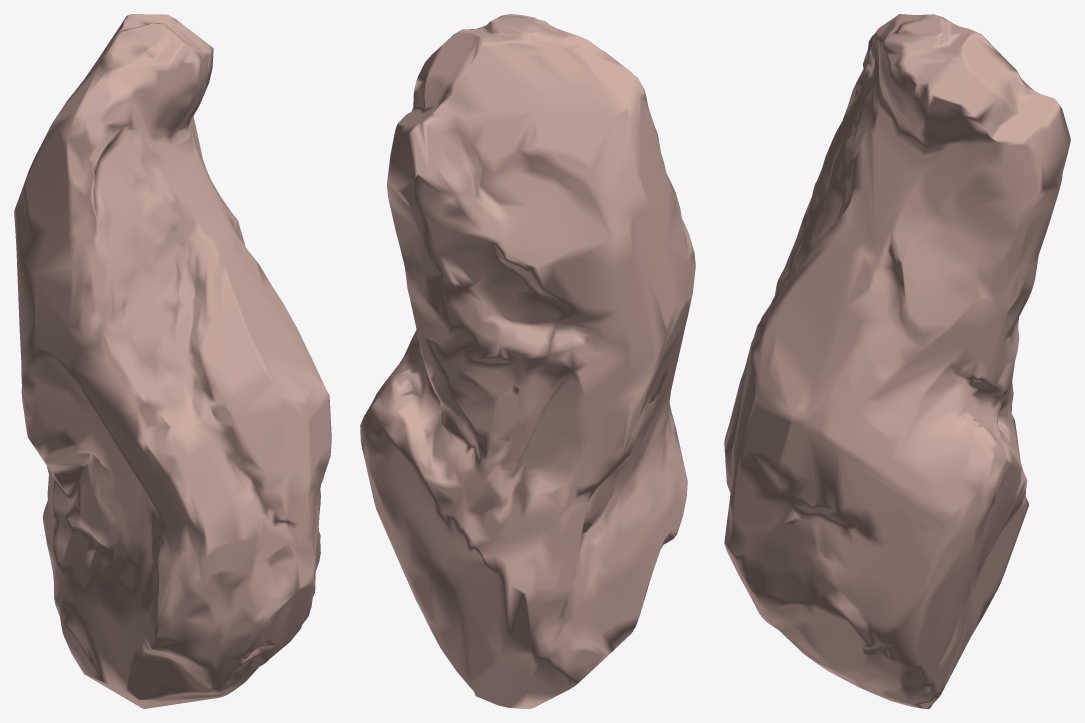
The model's file is rock-5.glb.
3 renders of one model, left to right at view 1: azimuth 30°, elevation 25°; view 2: azimuth 150°, elevation 25°; view 3: azimuth 270°, elevation 25°, orthographic. The views are drawn at different scales.
Visible parts, largest first — view 1: rock-5; view 2: rock-5; view 3: rock-5.
Part boxes in pixels (x1,y1,x2,y2): rock-5: (14,14,331,708); rock-5: (360,14,695,708); rock-5: (724,14,1070,708).
Size of the model in its own units: 0.236 by 0.55 by 0.2576.
